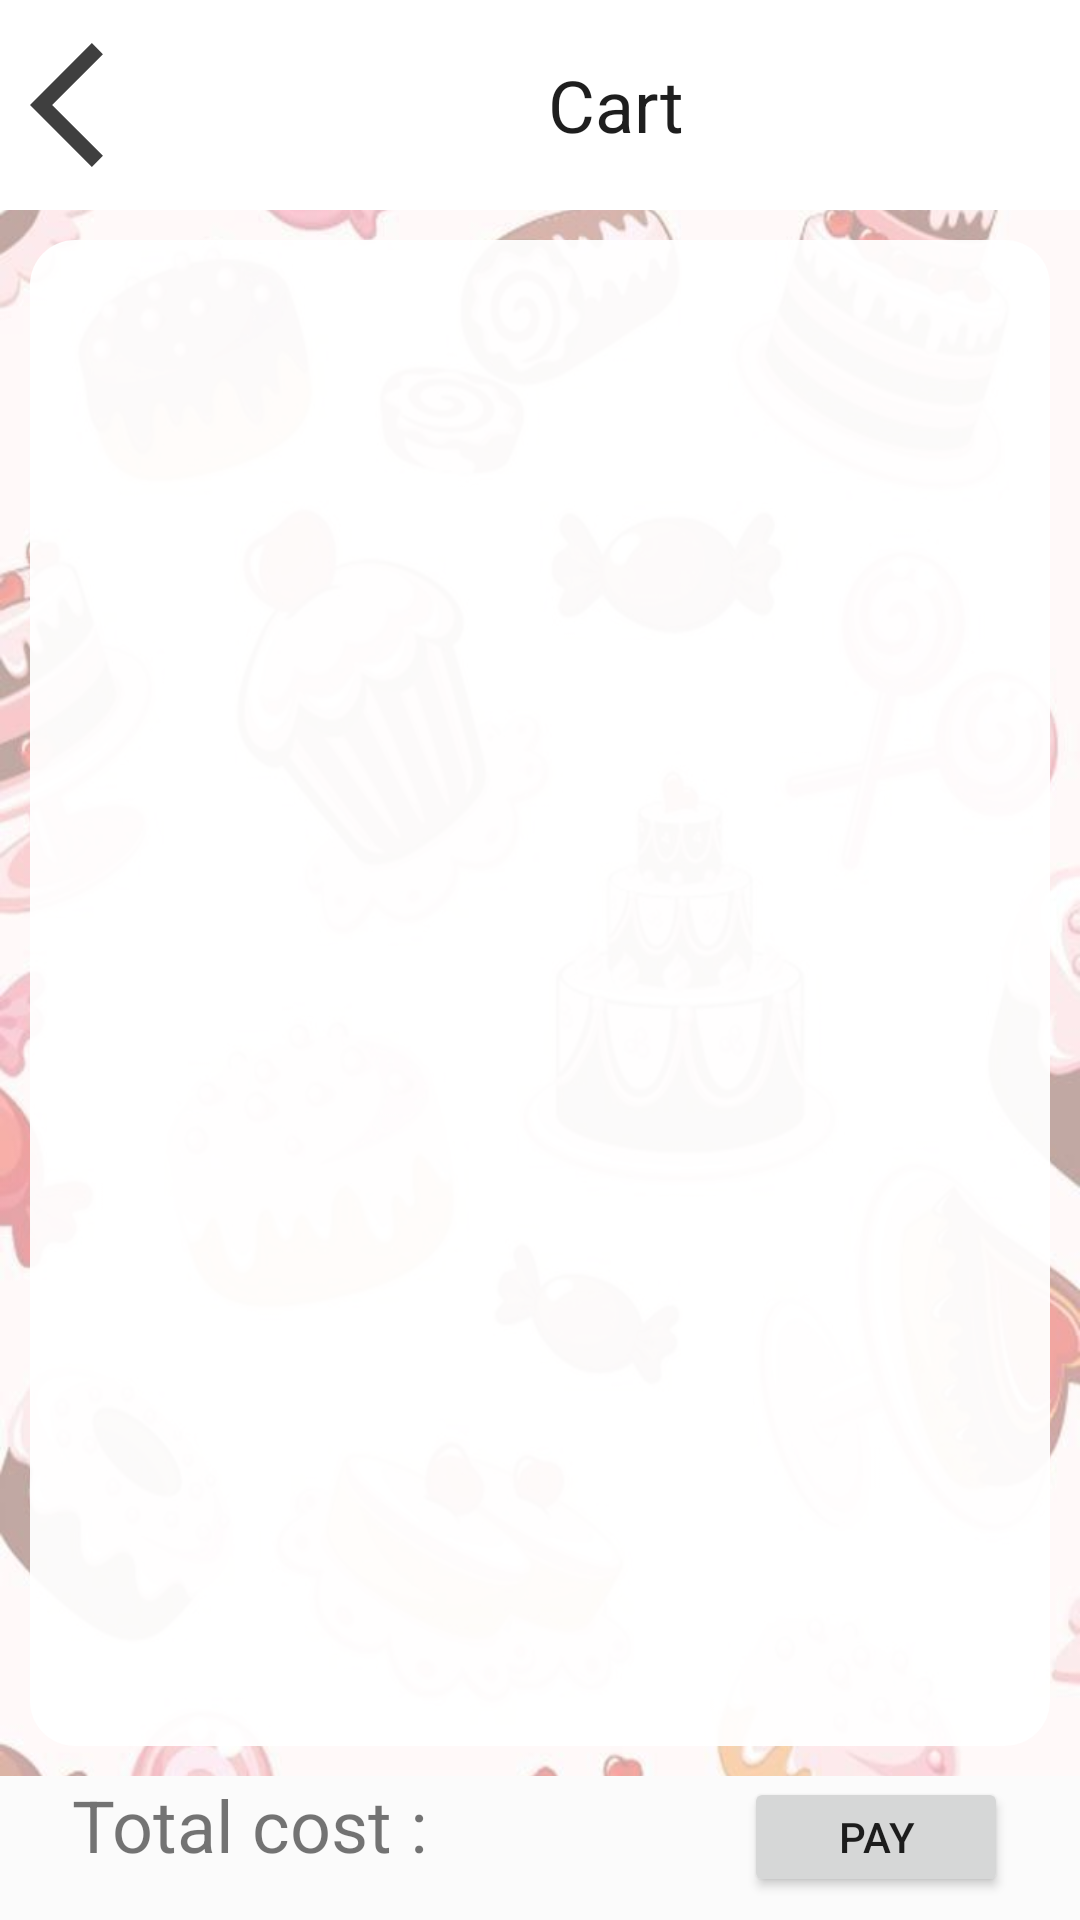

Icon click points for this 1080 × 1920 phone screenshot, format [x,y]:
arrow back: [66,105]
